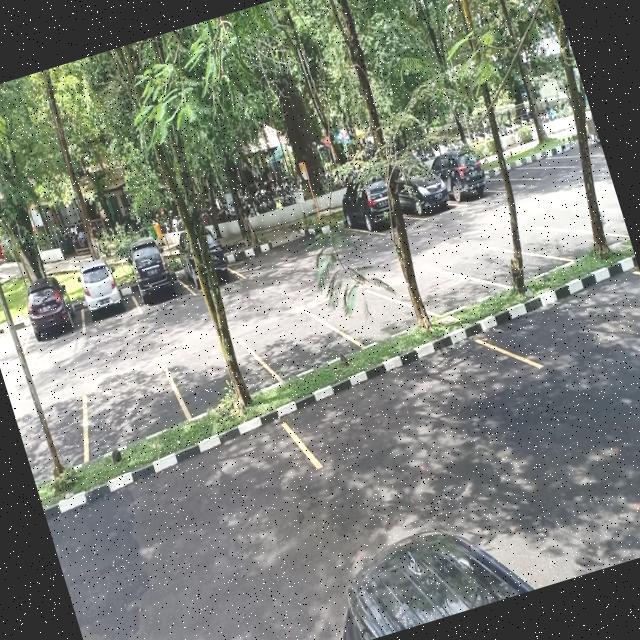empty: (36, 406, 323, 586), (282, 324, 529, 472), (495, 259, 640, 374), (74, 368, 187, 457), (164, 333, 271, 420), (250, 303, 344, 387), (324, 276, 418, 356), (461, 232, 544, 302), (409, 251, 489, 323), (523, 213, 590, 271)
occupied: (14, 278, 86, 346), (70, 258, 139, 328), (390, 156, 456, 227), (122, 241, 186, 313), (336, 182, 396, 248)
